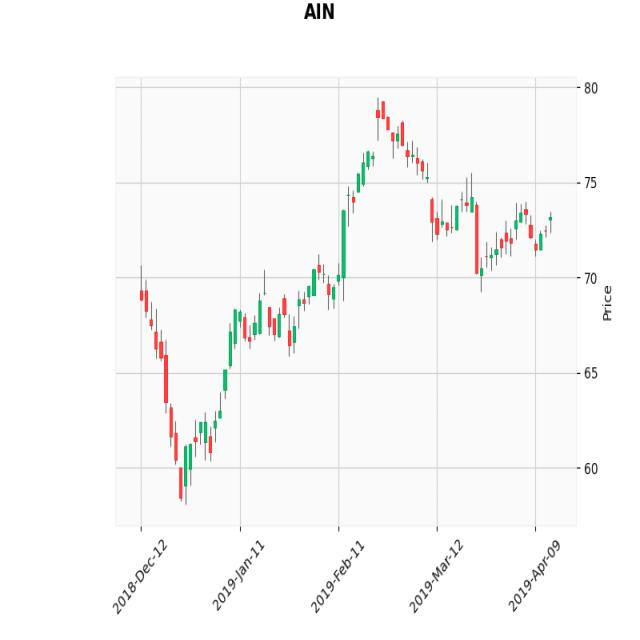Double-Bottom: (160, 349, 244, 510)
